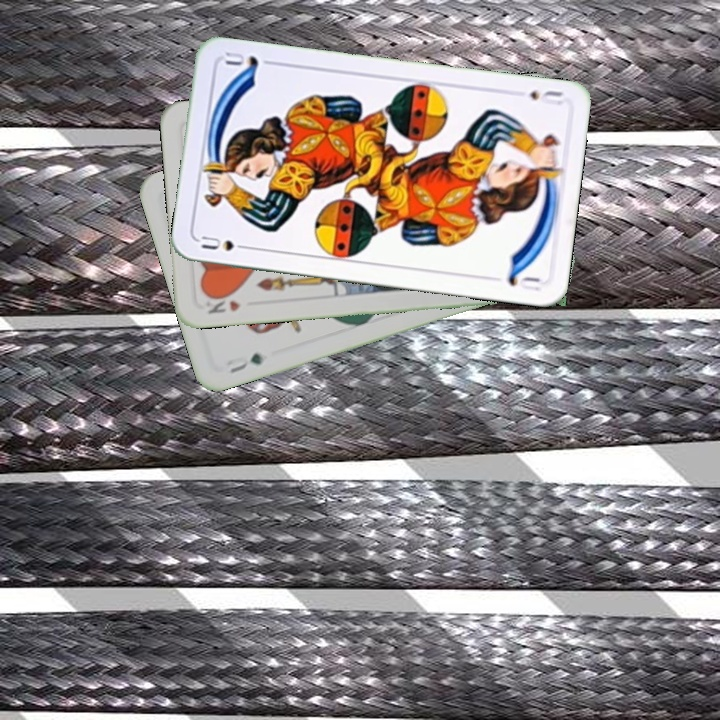GU: (226, 348, 267, 376)
HK: (202, 290, 243, 316)
SU: (197, 232, 254, 254), (525, 86, 566, 104)
